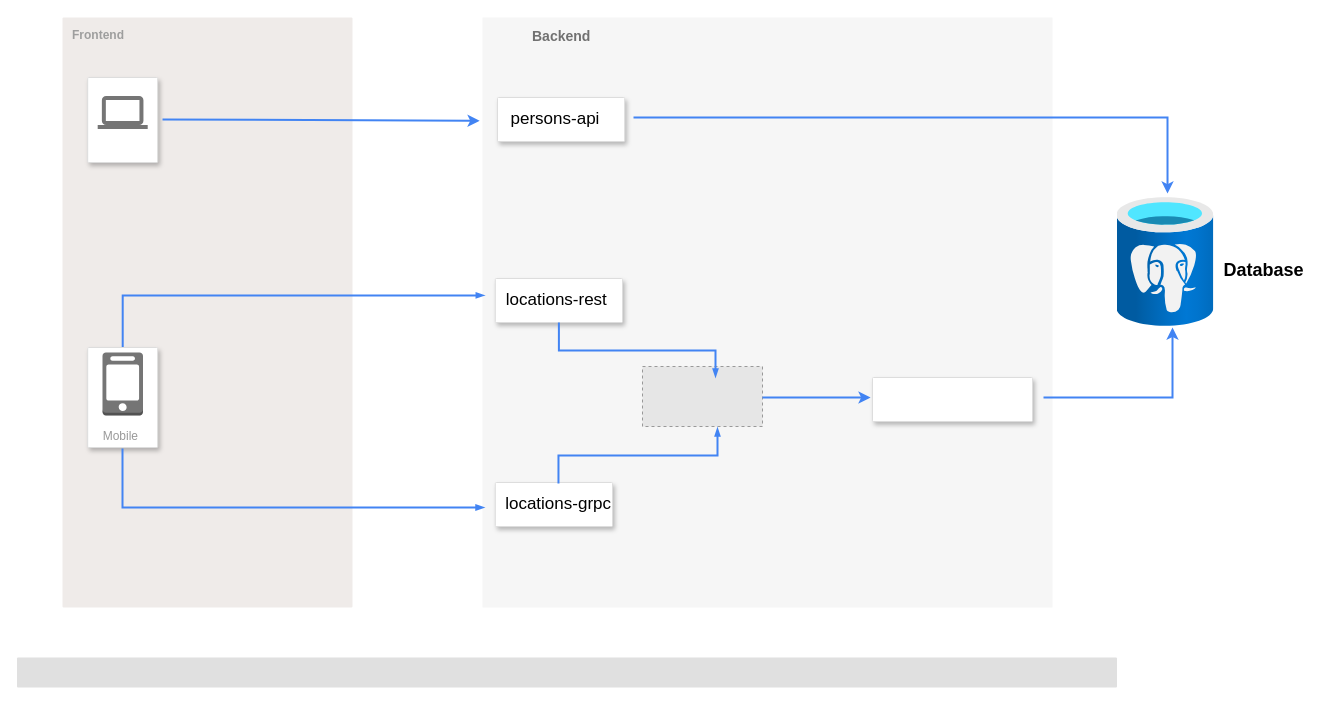
Some shapes in this 1331 by 704 pixel diagram are drawn without their labels. Grey dashed boxes stand in for pictures. Here are the shapes that lost their labels. From the top down, the centre of each, then its label:
point 123,121: Laptop
point 953,400: locations-consumer
